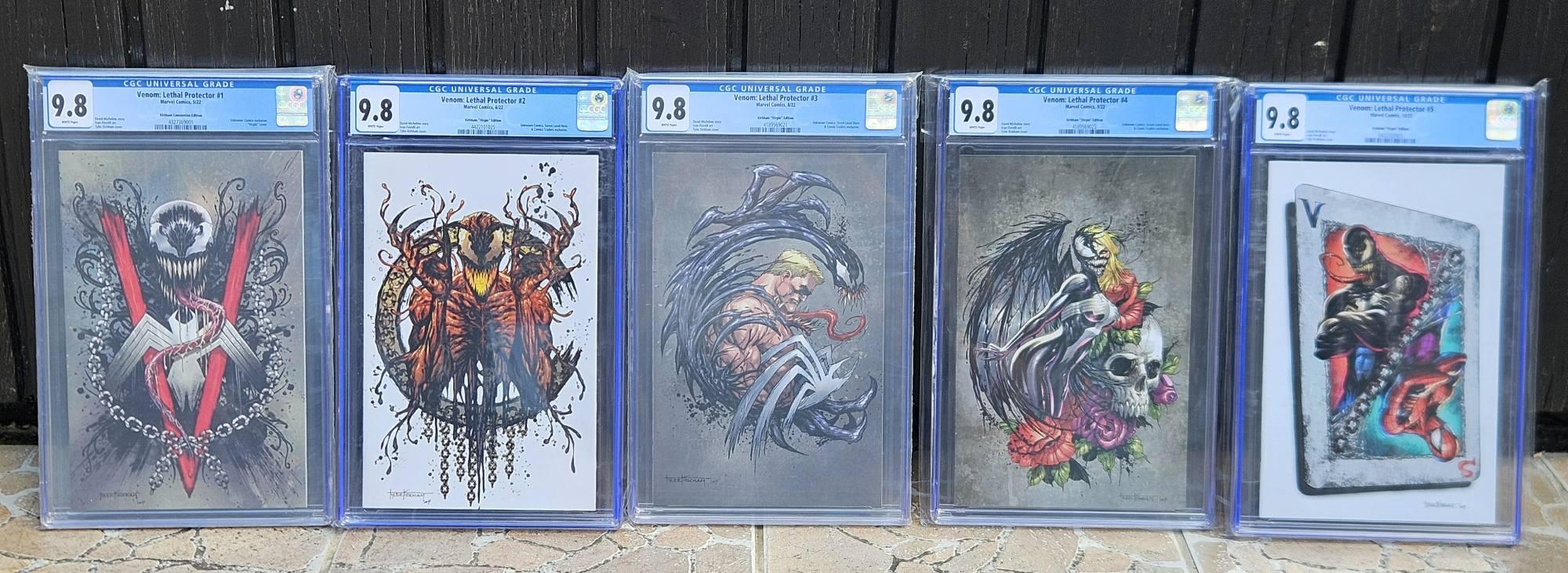comic: (45, 145, 322, 511), (936, 153, 1213, 509), (350, 151, 614, 511), (651, 149, 889, 513), (1284, 176, 1498, 495)
